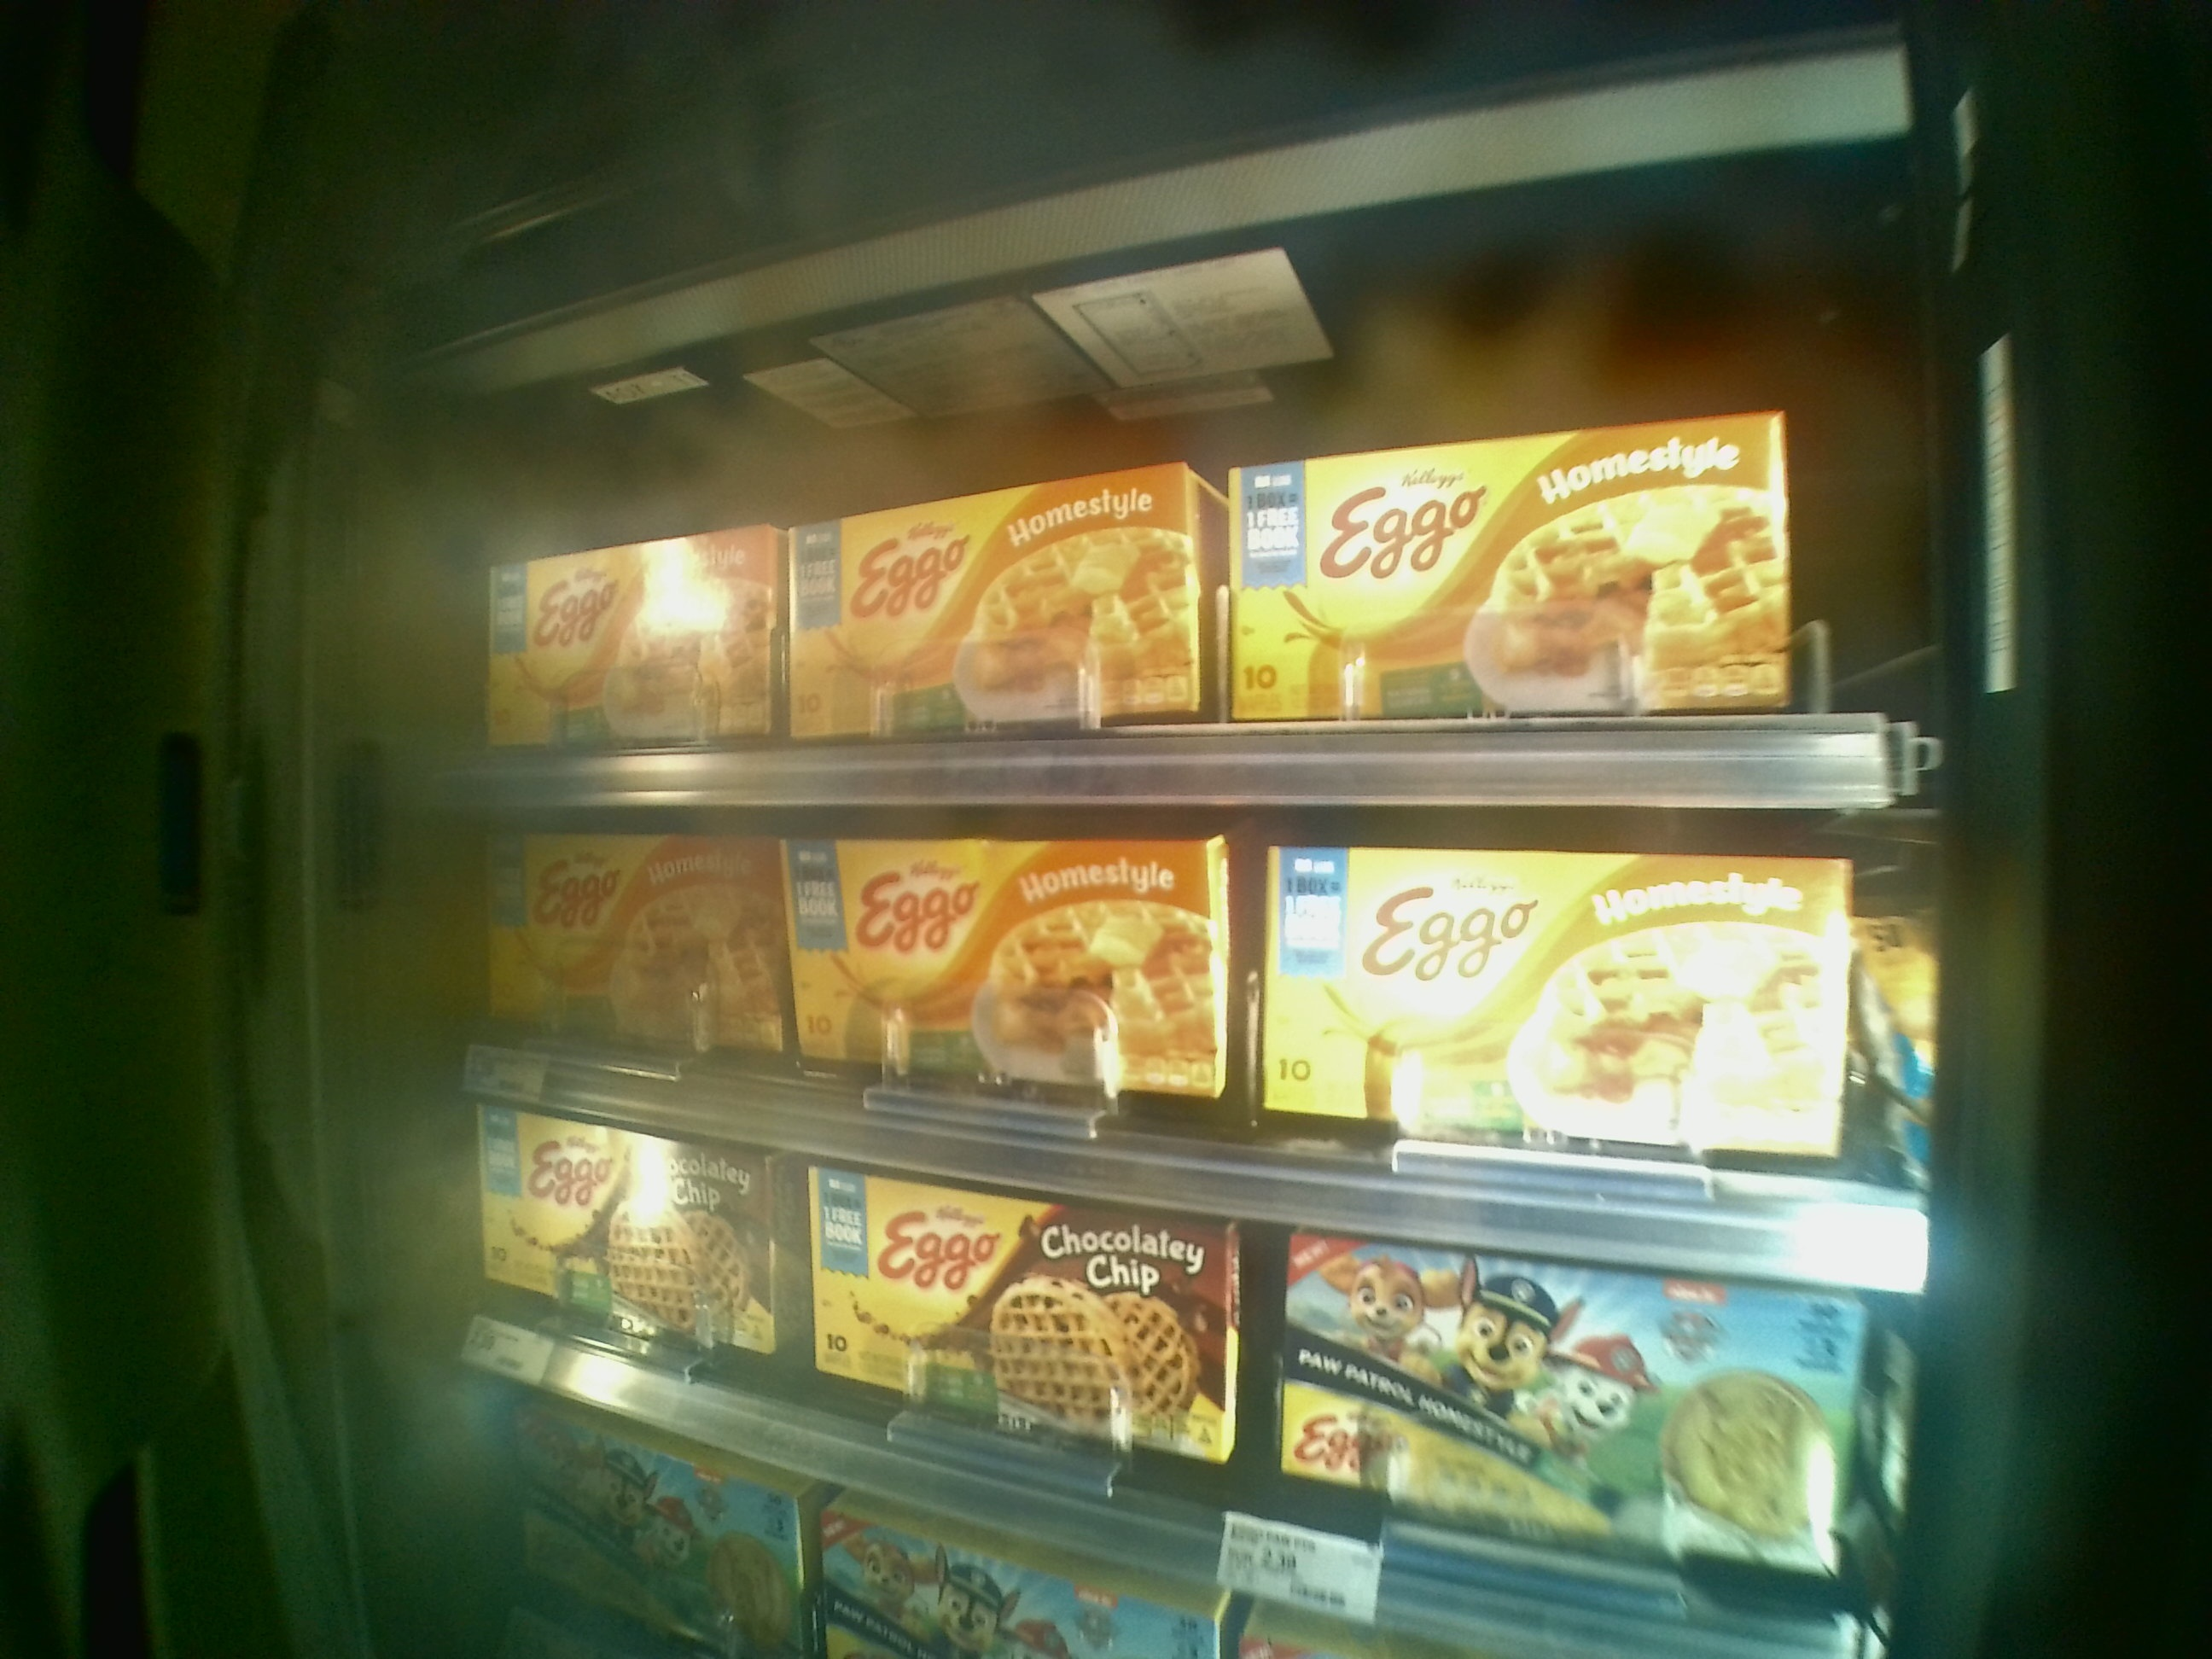shelf: (428, 315, 1925, 796)
